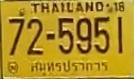1: (117, 16, 122, 53)
2: (27, 18, 43, 54)
5: (93, 16, 109, 53), (57, 17, 73, 53)
7: (8, 18, 24, 54)
9: (76, 17, 91, 53)
SPK: (30, 59, 109, 76)
